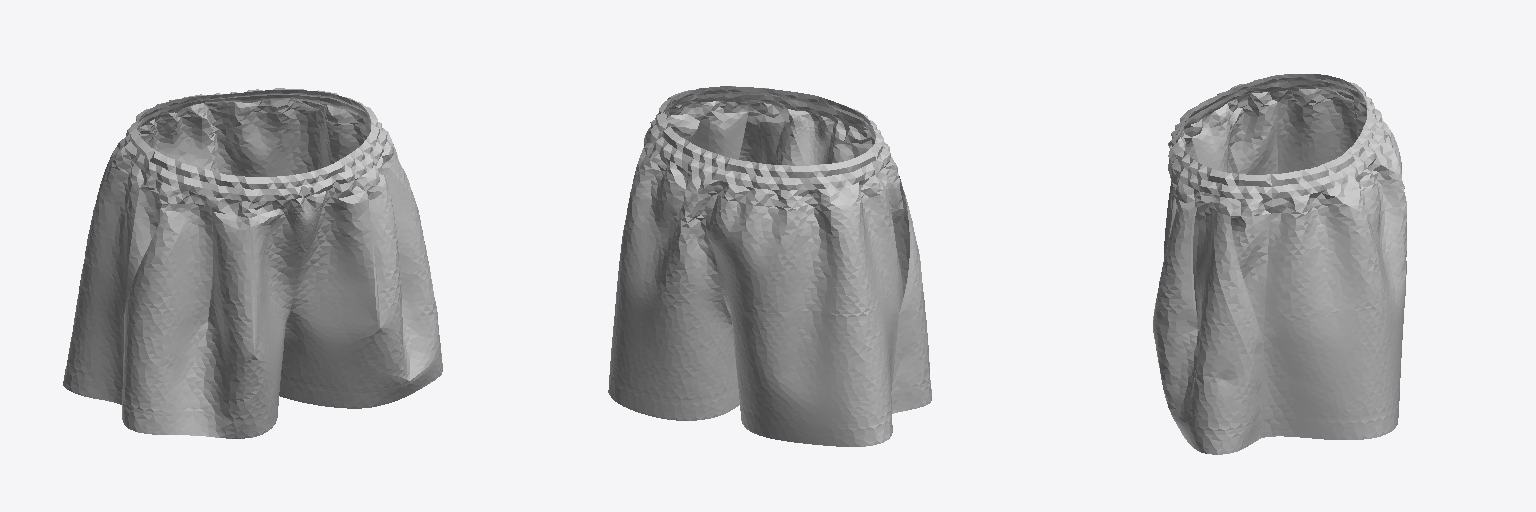
File: Large_Short.obj
The picture shows the model from 3 angles: view 1: azimuth 30°, elevation 25°; view 2: azimuth 150°, elevation 25°; view 3: azimuth 270°, elevation 25°; orthographic projection.
Visible parts, largest first — view 1: duanku.003; view 2: duanku.003; view 3: duanku.003.
Part boxes in pixels (x1,y1,x2,y2): duanku.003: (63,88,442,438); duanku.003: (608,86,931,446); duanku.003: (1153,74,1406,454).
Bounding box in the file's own units: 0.558 × 0.4661 × 0.398.